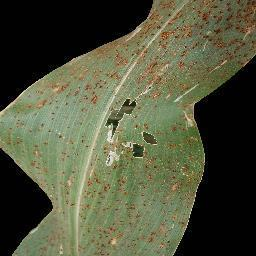Corn_Common_Rust: (61, 57, 207, 256), (79, 0, 256, 56), (0, 71, 51, 197), (10, 211, 59, 256), (205, 56, 253, 92), (51, 62, 60, 210)
